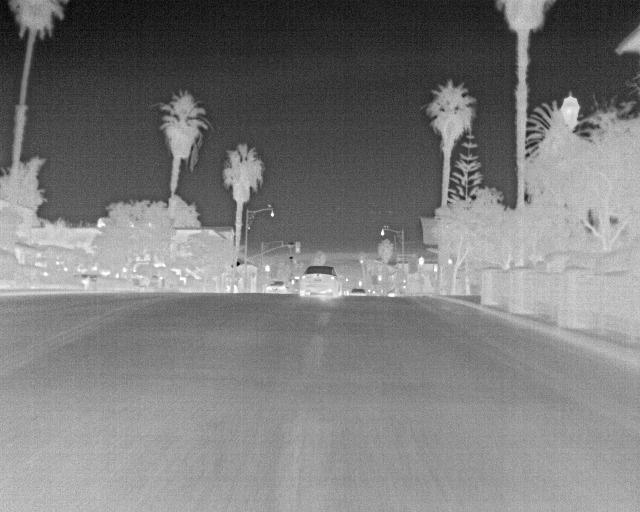car: (298, 266, 343, 299), (264, 278, 286, 293)
